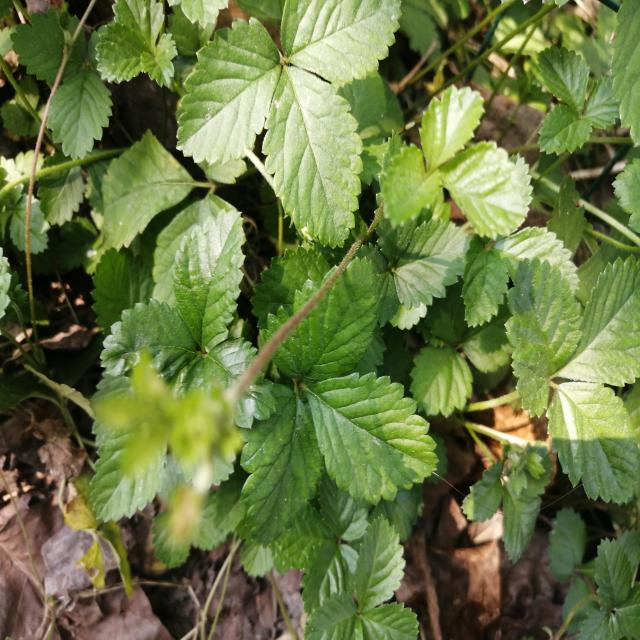Mock_strawberry: (162, 10, 440, 230)
